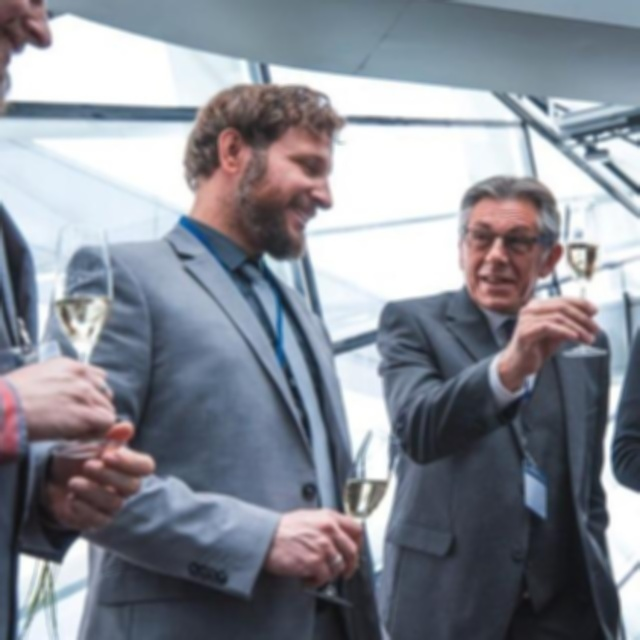Sin_Casco_Mascarrilla: (182, 83, 340, 254), (458, 174, 561, 312)
